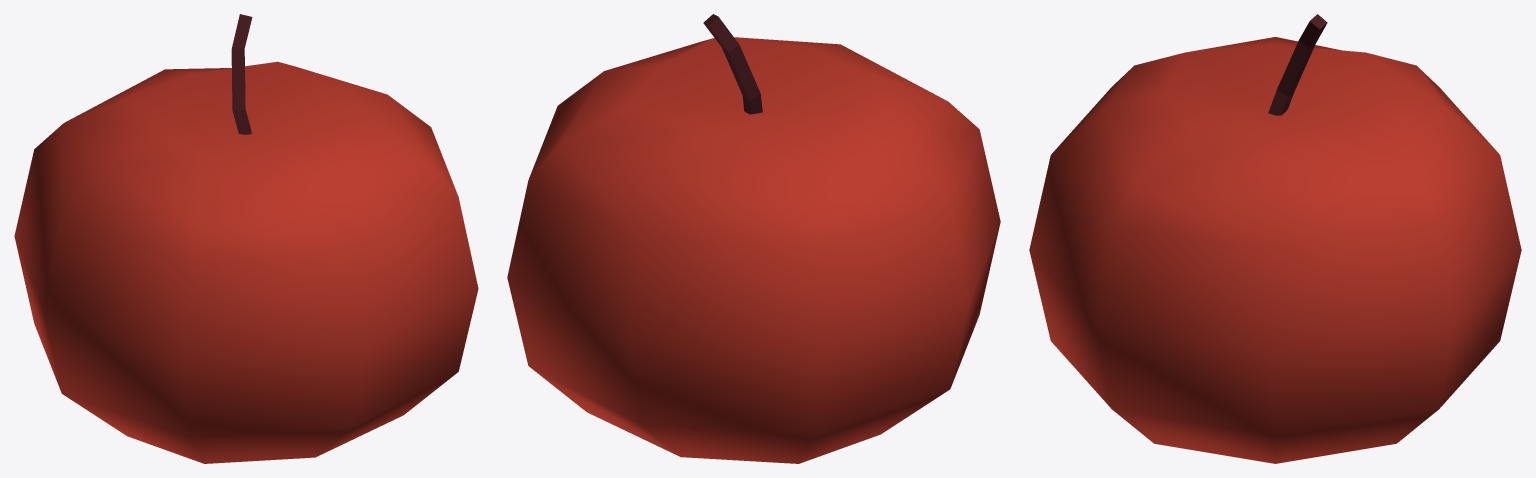
Rendered from FruitApple.fbx.
The picture shows the model from 3 angles, left to right: view 1: azimuth 30°, elevation 25°; view 2: azimuth 150°, elevation 25°; view 3: azimuth 270°, elevation 25°; orthographic projection. The views are drawn at different scales.
Visible parts, largest first — view 1: FruitApple; view 2: FruitApple; view 3: FruitApple.
Boxes of the visible parts, box(x1,y1,x2,y2) form: FruitApple: box(14, 14, 478, 463); FruitApple: box(507, 14, 1000, 463); FruitApple: box(1029, 14, 1521, 463).
Bounding box in the file's own units: 15.49 × 14.47 × 15.49.
